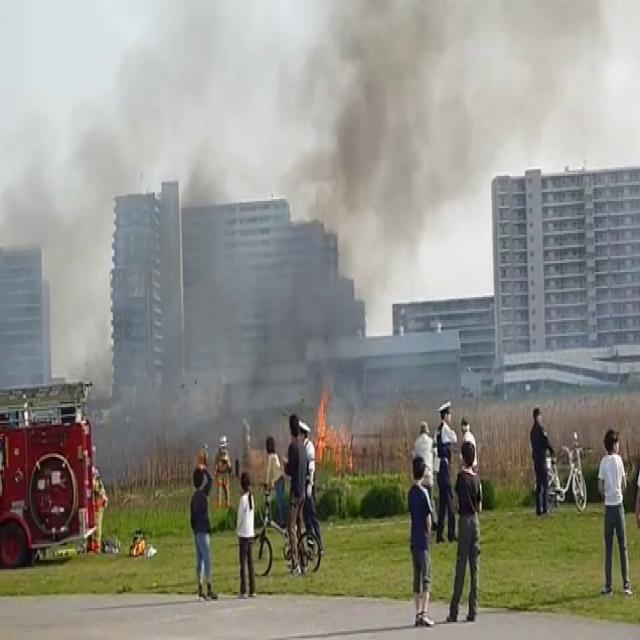Fire: (308, 388, 361, 503)
Smoke: (0, 0, 532, 360)
